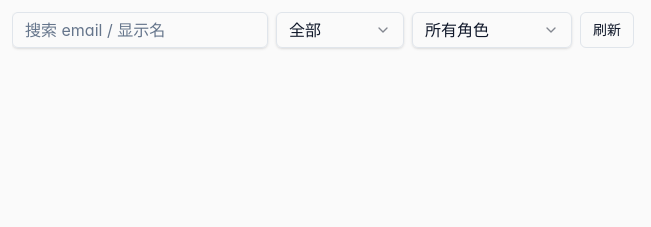
Test: UserFilters role filter › 点击 role 下拉, 选项含所有角色 + 具体 role
What coordinates should you click on to do the following:
click the dropdown with test id "role-filter"
I would click on:
 (492, 30)
Its box is [412,12,572,48].
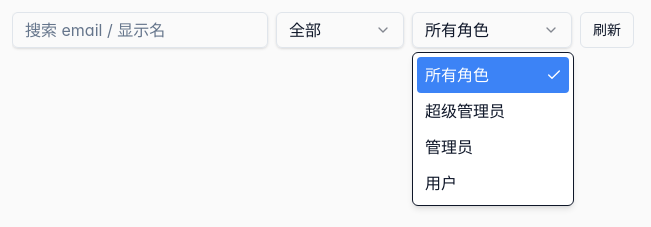
Result: the option "所有角色" is shown at [417,57,569,93]
Result: the option "超级管理员" is shown at [425,101,505,121]
Result: the option "管理员" is shown at [425,137,473,157]
